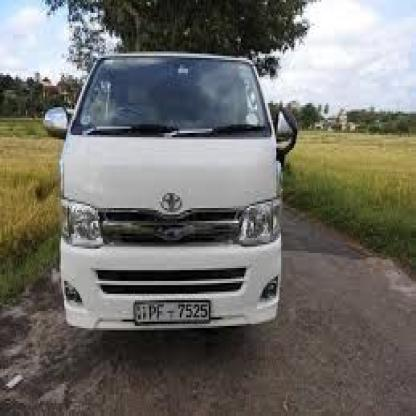number plate: (134, 301, 216, 325)
van front: (46, 50, 300, 347)
